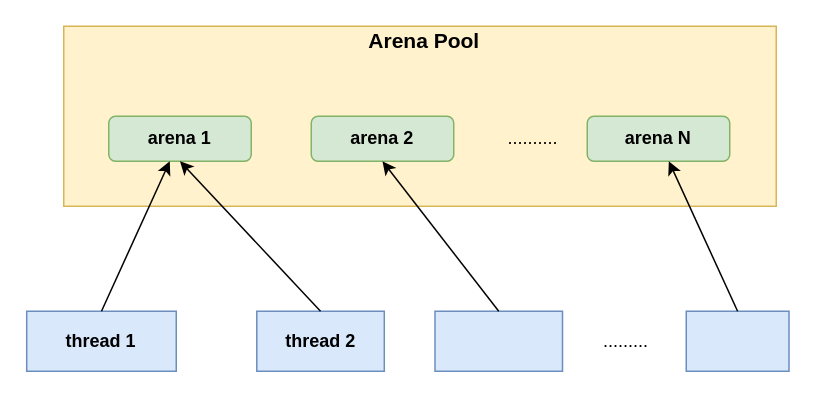
Image size: 816x398. Some labels were removed from this diagram. The shapes that lost their labels are listed below. From the top down, each one's centre as x and y in pixels, then its label:
At (498,340): "thread 3".
At (737,340): "thread N".
